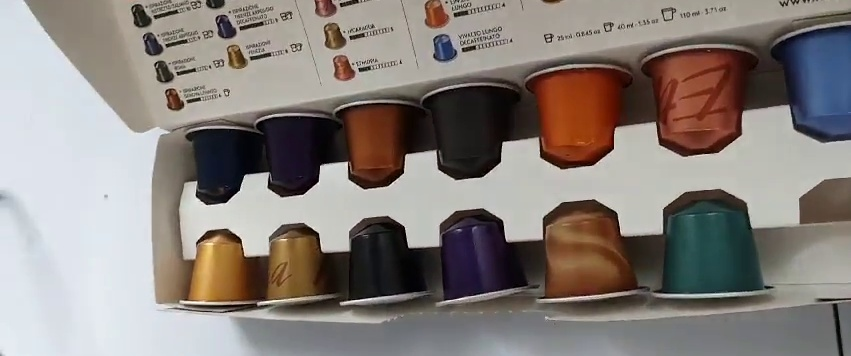capsule_1: (185, 125, 262, 204)
capsule_10: (341, 217, 432, 307)
capsule_11: (429, 211, 540, 307)
capsule_12: (532, 199, 655, 306)
capsule_13: (653, 189, 776, 299)
capsule_2: (255, 113, 343, 192)
capsule_3: (334, 101, 426, 185)
capsule_4: (423, 83, 524, 183)
capsule_5: (522, 59, 634, 164)
capsule_6: (638, 40, 762, 154)
capsule_7: (770, 21, 851, 145)
capsule_8: (178, 230, 258, 307)
capsule_9: (256, 227, 344, 307)
